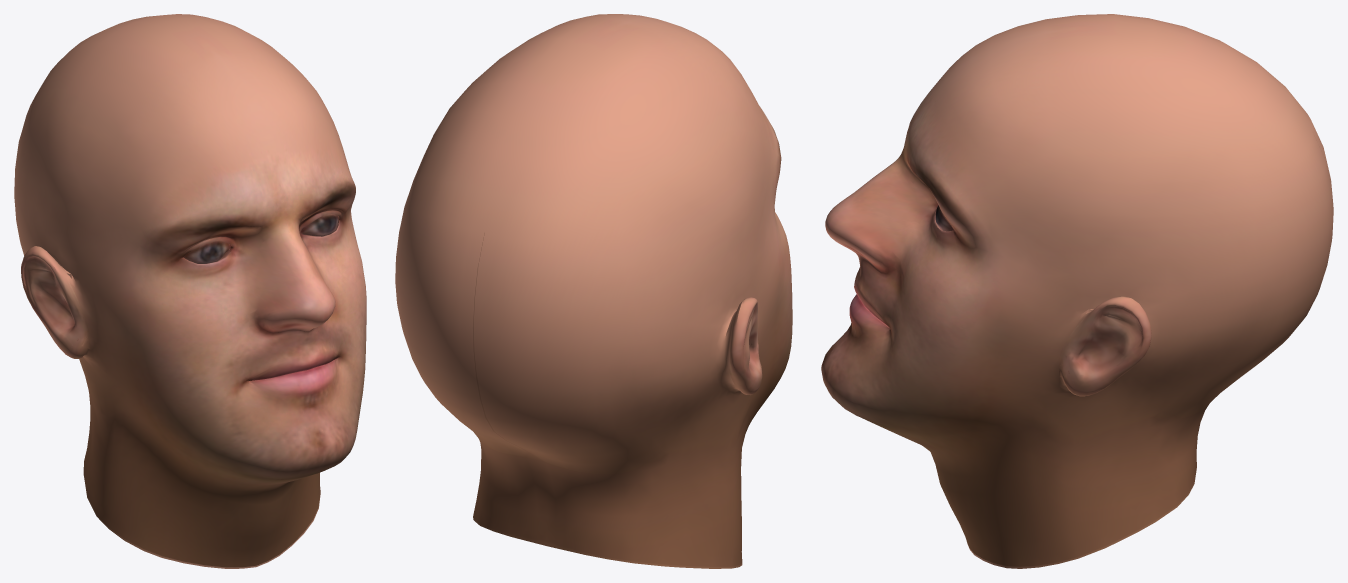
The model's file is head.glb.
3 views of the same model, side by side, from view 1: azimuth 30°, elevation 25°; view 2: azimuth 150°, elevation 25°; view 3: azimuth 270°, elevation 25° (orthographic). The views are drawn at different scales.
Parts seen in each view (by area): view 1: Object_5, Object_4, Object_3; view 2: Object_5; view 3: Object_5.
Boxes of the visible parts, x1,y1,x2,y2 form: Object_5: (14,14,366,568); Object_4: (183,241,230,263); Object_3: (301,214,338,236); Object_5: (395,14,792,568); Object_5: (821,14,1333,568).
Bounding box in the file's own units: 180 × 278 × 250.
Materials: 7 (7 with a texture image).
